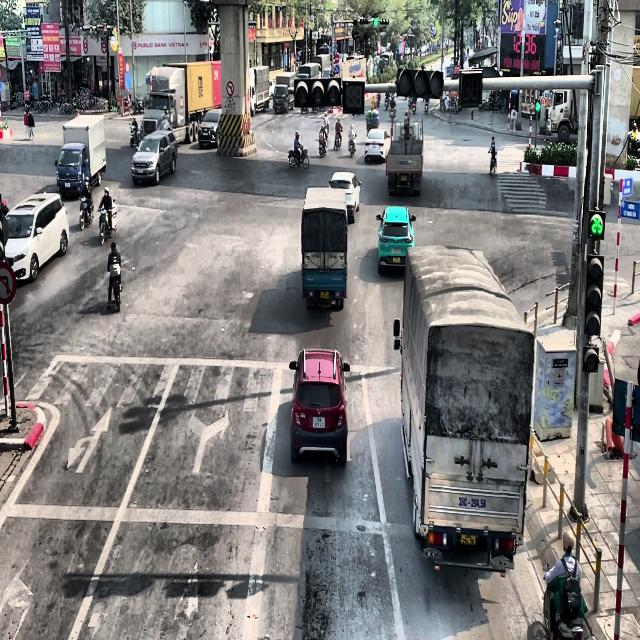lisence_plate: (457, 494, 487, 510), (459, 532, 477, 547), (311, 414, 326, 429), (318, 289, 329, 299), (391, 255, 402, 264), (402, 176, 408, 182), (372, 144, 377, 149)
